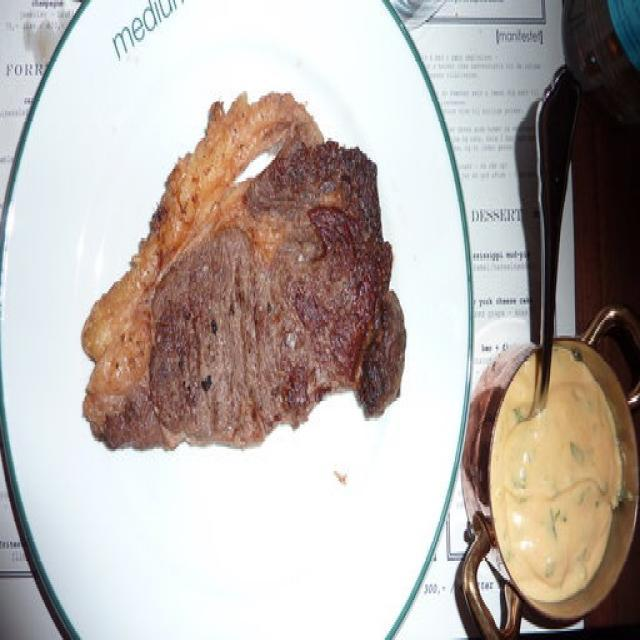Steak: (73, 89, 425, 511)
